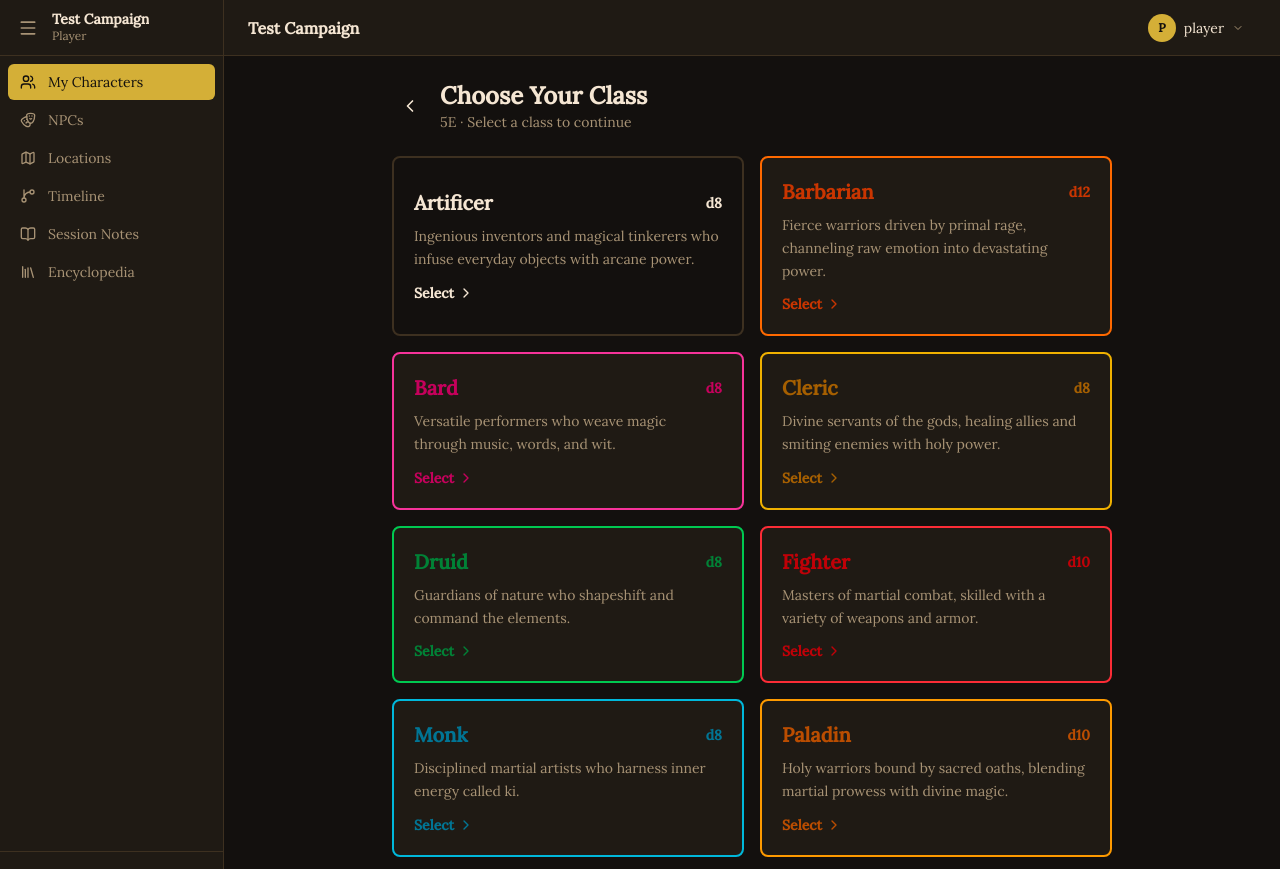
Test: CharacterCreate › class overview back button returns to class picker
Click the text "Fighter". click: x=816, y=562
box: [782,548,850,576]
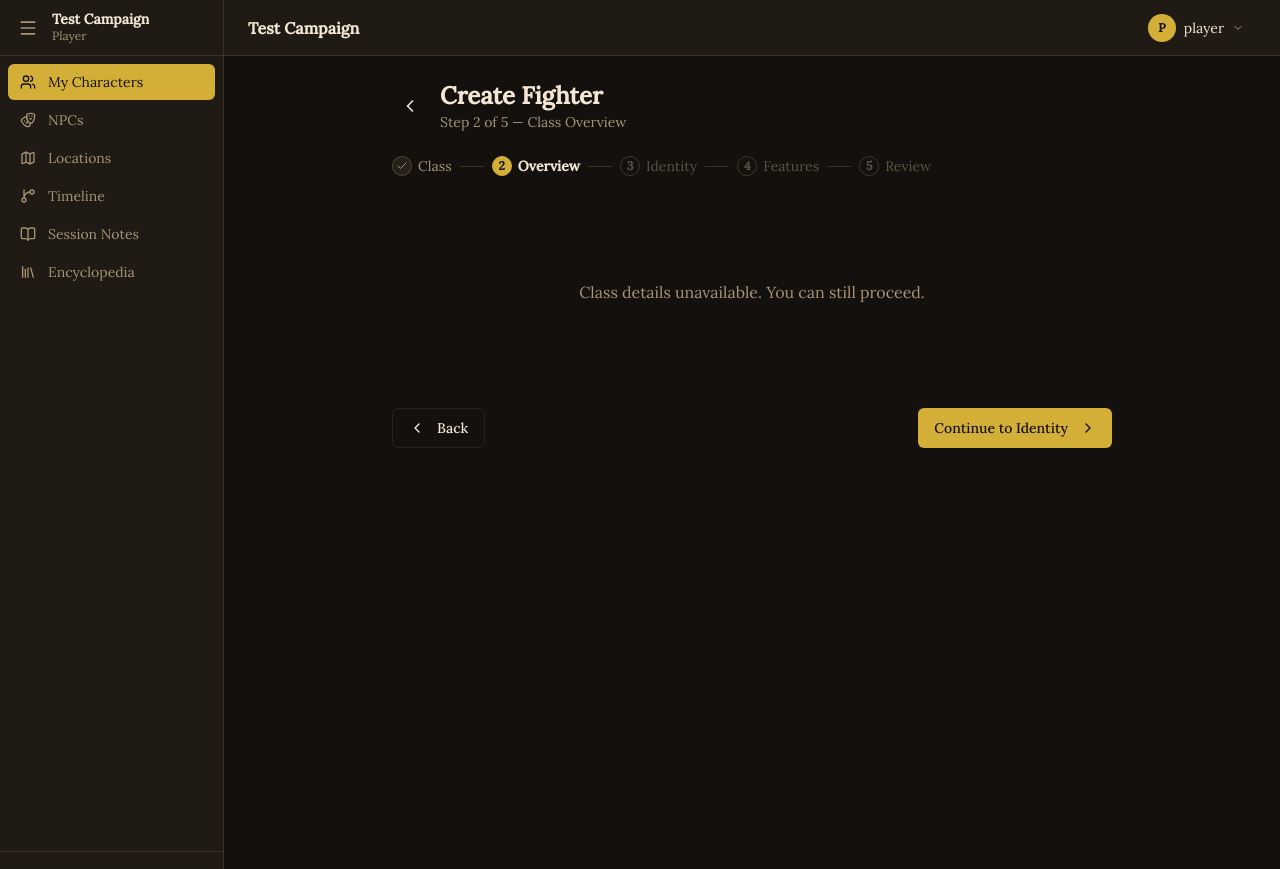
Check: the button with test id "overview-next" is shown, box [918,408,1112,448]
Click the button named "Back". click: x=410, y=106
box: [392,88,428,124]
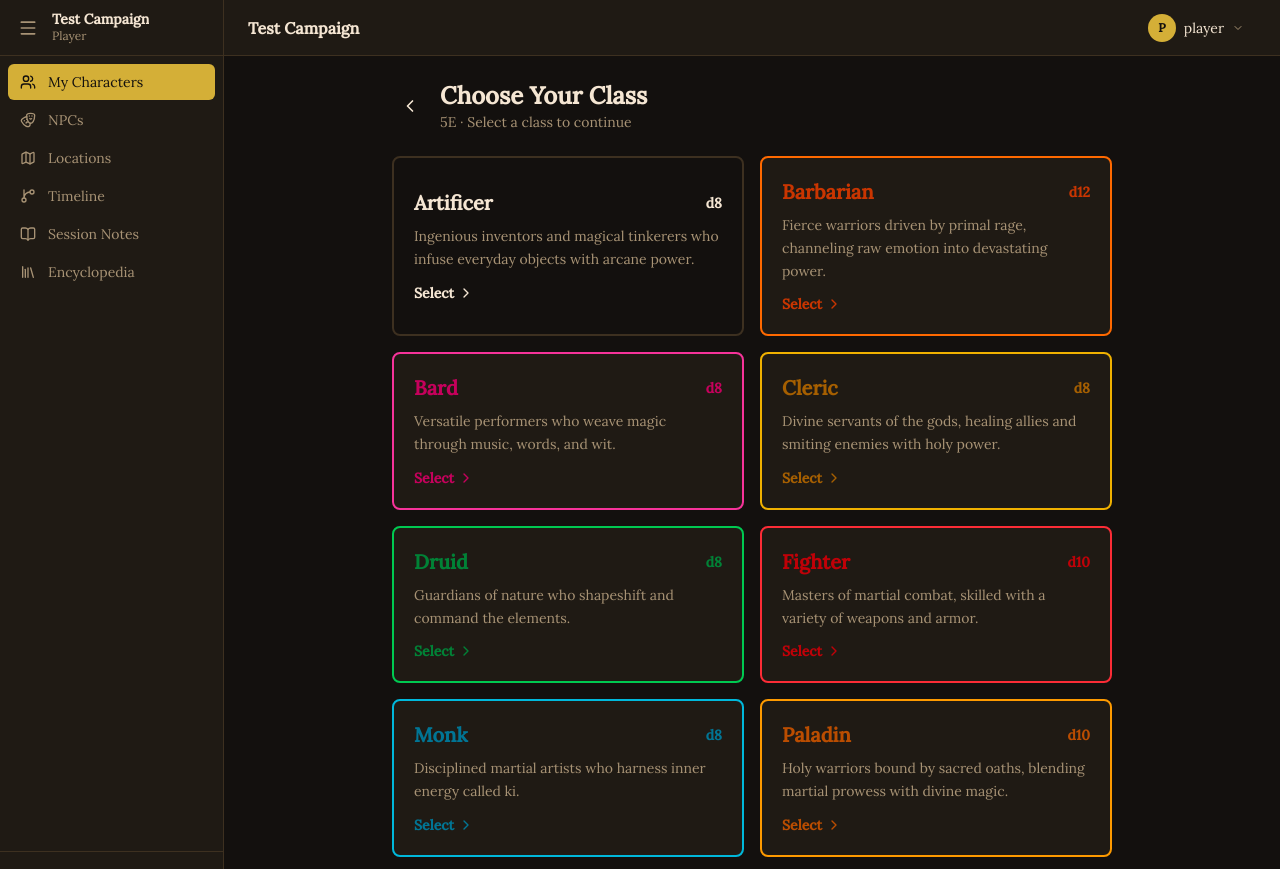
Check: the heading "Choose Your Class" is shown, box [440,80,647,111]
